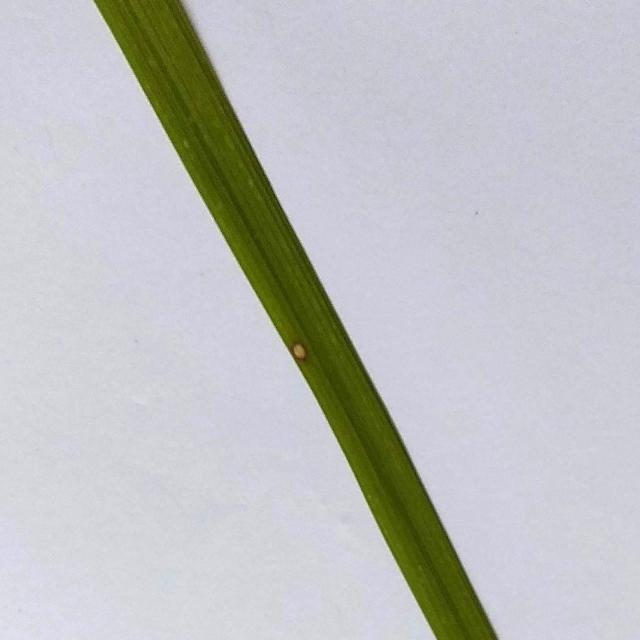Leaf blast: (68, 0, 526, 640)
